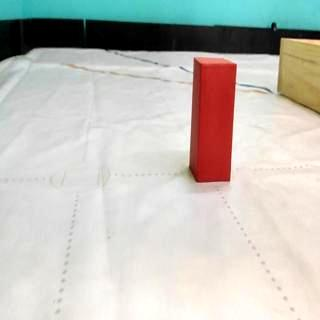redbox: (188, 56, 236, 184)
